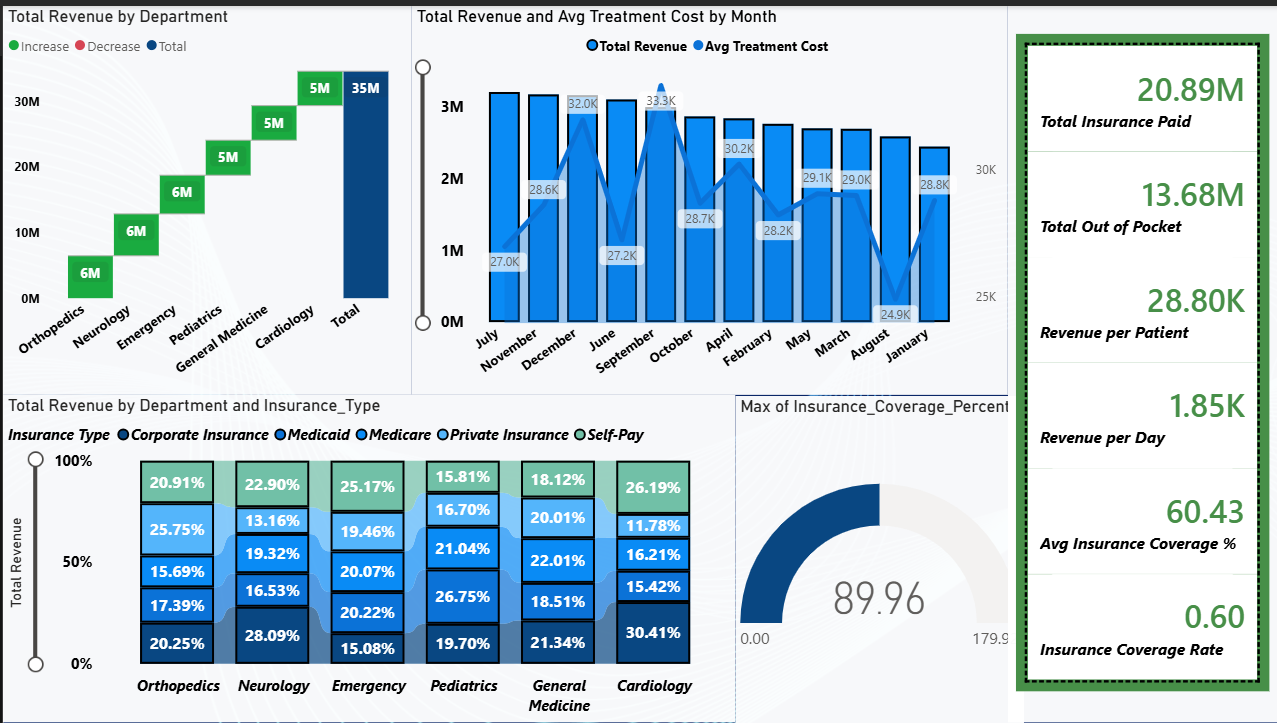

Layout of this report page (visuals, bound fields, positions):
{"tool":"powerbi","page":{"name":"Page 2","canvas":[1280,720],"ordinal":1},"visuals":[{"type":"waterfallChart","fields":{"Category":["hospital_patient_data_clean.Department"],"Y":["DateTable.Total Revenue"]},"box":[0,0,410.6,390.3],"z":0},{"type":"lineStackedColumnComboChart","fields":{"Category":["DateTable.Month"],"Y":["DateTable.Total Revenue"],"Y2":["DateTable.Avg Treatment Cost"]},"box":[410.6,0,598.5,390.3],"z":1000},{"type":"hundredPercentStackedColumnChart","fields":{"Series":["hospital_patient_data_clean.Insurance_Type"],"Category":["hospital_patient_data_clean.Department"],"Y":["DateTable.Total Revenue"]},"box":[0,390.1,735,328.8],"z":2000},{"type":"gauge","fields":{"Y":["Max(hospital_patient_data_clean.Insurance_Coverage_Percent)"]},"box":[735,391.6,289.3,328.8],"z":3000},{"type":"cardVisual","fields":{"Data":["DateTable.Total Insurance Paid","DateTable.Total Out of Pocket","DateTable.Revenue per Patient","DateTable.Revenue per Day","DateTable.Avg Insurance Coverage %","DateTable.Insurance Coverage Rate"]},"box":[1009.1,0,270.9,719.4],"z":4000}]}

Visuals, with their boxes in screenshot pixels (x1, y1, x2, y2), scaled from the page's 1280x720 canvas onto the 1277x723 screenshot:
waterfallChart - hospital_patient_data_clean.Department x DateTable.Total Revenue: [left=0, top=0, right=410, bottom=392]
lineStackedColumnComboChart - DateTable.Month x DateTable.Total Revenue: [left=410, top=0, right=1007, bottom=392]
hundredPercentStackedColumnChart - hospital_patient_data_clean.Insurance_Type x hospital_patient_data_clean.Department: [left=0, top=392, right=733, bottom=722]
gauge - Max(hospital_patient_data_clean.Insurance_Coverage_Percent): [left=733, top=393, right=1022, bottom=722]
cardVisual - DateTable.Total Insurance Paid x DateTable.Total Out of Pocket: [left=1007, top=0, right=1276, bottom=722]
